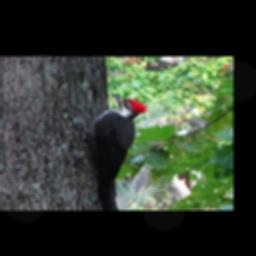Woodpecker: (73, 92, 150, 210)
